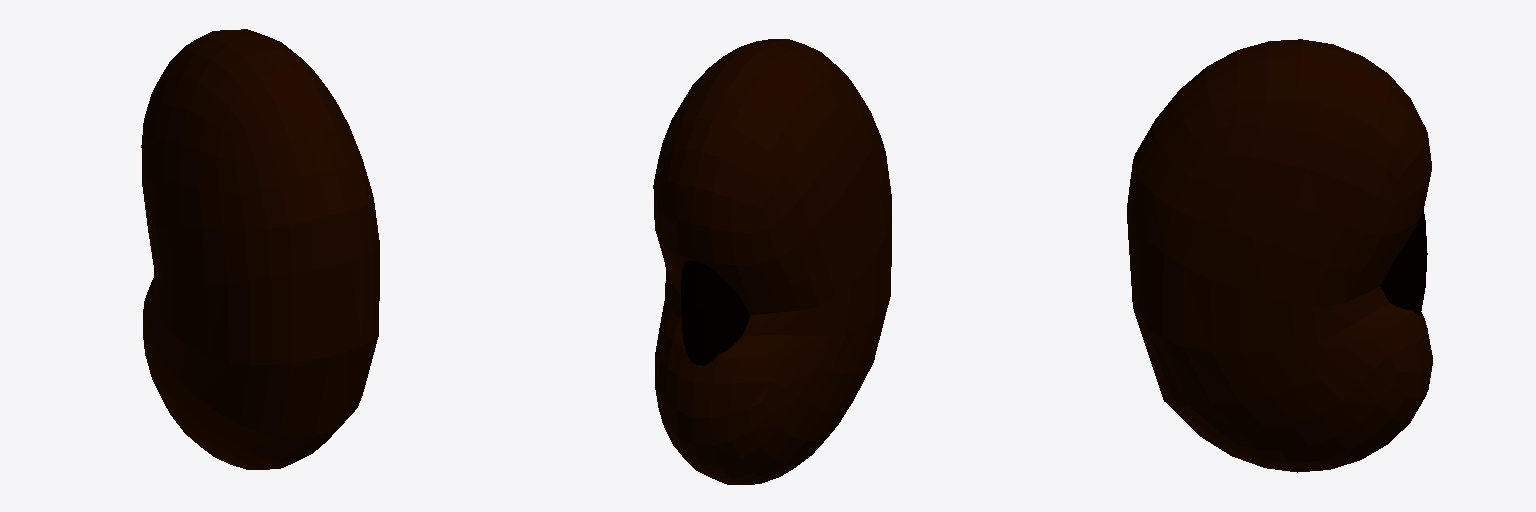
File: seed.obj
The picture shows the model from 3 angles: view 1: azimuth 30°, elevation 25°; view 2: azimuth 150°, elevation 25°; view 3: azimuth 270°, elevation 25°; orthographic projection.
Visible parts, largest first — view 1: Cube; view 2: Cube, Sphere; view 3: Cube, Sphere.
Part boxes in pixels (bbox=[...]): Cube: bbox=[141, 29, 379, 469]; Cube: bbox=[653, 39, 891, 484]; Sphere: bbox=[681, 260, 750, 365]; Cube: bbox=[1127, 39, 1432, 472]; Sphere: bbox=[1380, 209, 1427, 315].
Size of the model in its own units: 1.25 by 2.79 by 1.84.